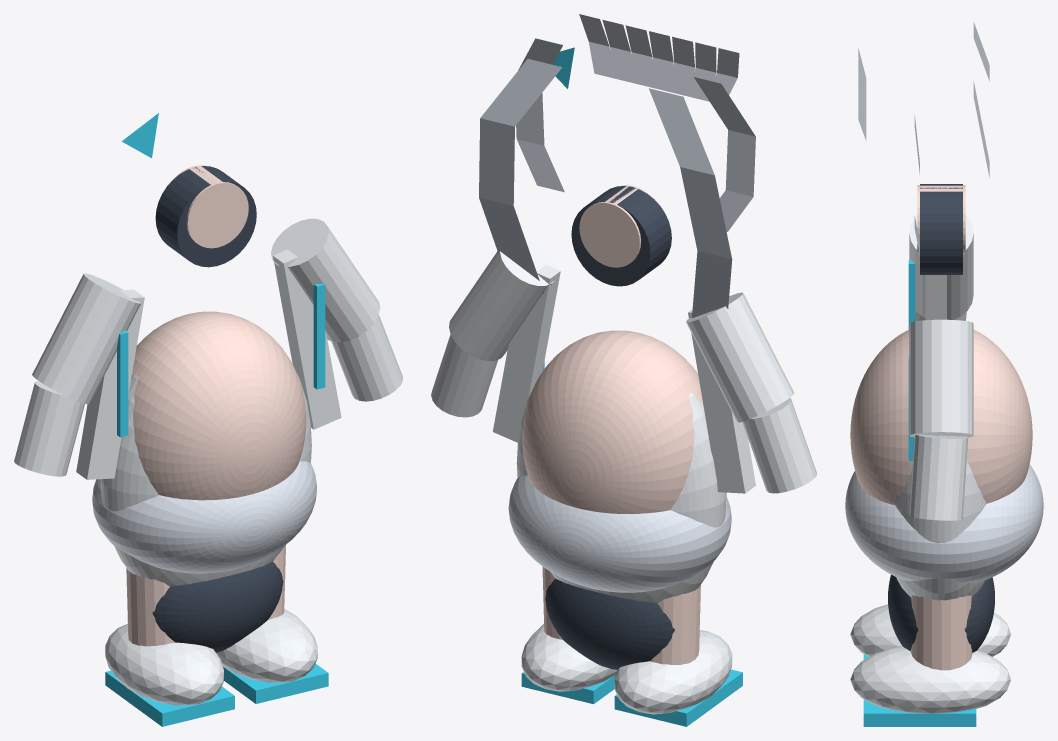
The model's file is ai_companion_character_v1.glb.
3 views of the same model, side by side, from view 1: azimuth 30°, elevation 25°; view 2: azimuth 150°, elevation 25°; view 3: azimuth 270°, elevation 25° (orthographic).
Parts seen in each view (by area): view 1: head, hair_cap, upper_arm_-1, waist, upper_arm_1, boot_-0.2, torso, boot_0.2, coat_panel_1, forearm_-1, collar, coat_panel_-1 (+8 smaller); view 2: head, hair_cap, waist, upper_arm_-1, long_hair_-1, long_hair_1, upper_arm_1, boot_-0.2, torso, coat_panel_1, collar, forearm_-1 (+16 smaller); view 3: head, hair_cap, boot_0.2, upper_arm_1, forearm_1, right_leg, collar, torso, waist, boot_-0.2, upper_arm_-1, sole_0.2 (+4 smaller).
Part boxes in pixels (x1,y1,x2,y2): head: (131, 311, 306, 500); hair_cap: (92, 461, 316, 573); upper_arm_-1: (32, 273, 141, 404); waist: (152, 561, 283, 652); upper_arm_1: (271, 218, 380, 342); boot_-0.2: (105, 623, 223, 705); torso: (100, 374, 311, 586); boot_0.2: (216, 608, 317, 682); coat_panel_1: (273, 249, 341, 429); forearm_-1: (14, 381, 84, 476); collar: (155, 166, 256, 267); coat_panel_-1: (76, 289, 144, 479); head: (522, 330, 703, 513); hair_cap: (508, 475, 731, 592); waist: (545, 578, 674, 669); upper_arm_-1: (686, 292, 794, 422); long_hair_-1: (649, 88, 732, 318); long_hair_1: (479, 59, 562, 293); upper_arm_1: (449, 240, 556, 361); boot_-0.2: (614, 630, 732, 714); torso: (516, 393, 726, 603); coat_panel_1: (492, 265, 560, 442); collar: (571, 186, 671, 286); forearm_-1: (742, 398, 816, 493); head: (850, 330, 1032, 505); hair_cap: (845, 464, 1043, 583); boot_0.2: (850, 646, 1010, 713); upper_arm_1: (909, 319, 973, 437); forearm_1: (909, 435, 968, 520); right_leg: (910, 595, 972, 670); collar: (920, 184, 962, 274); torso: (895, 460, 986, 600); waist: (888, 574, 994, 652); boot_-0.2: (850, 604, 1010, 656); upper_arm_-1: (909, 215, 973, 319); sole_0.2: (863, 699, 976, 726).
Bounding box in the file's own units: 1.63 × 2.6 × 0.74.
